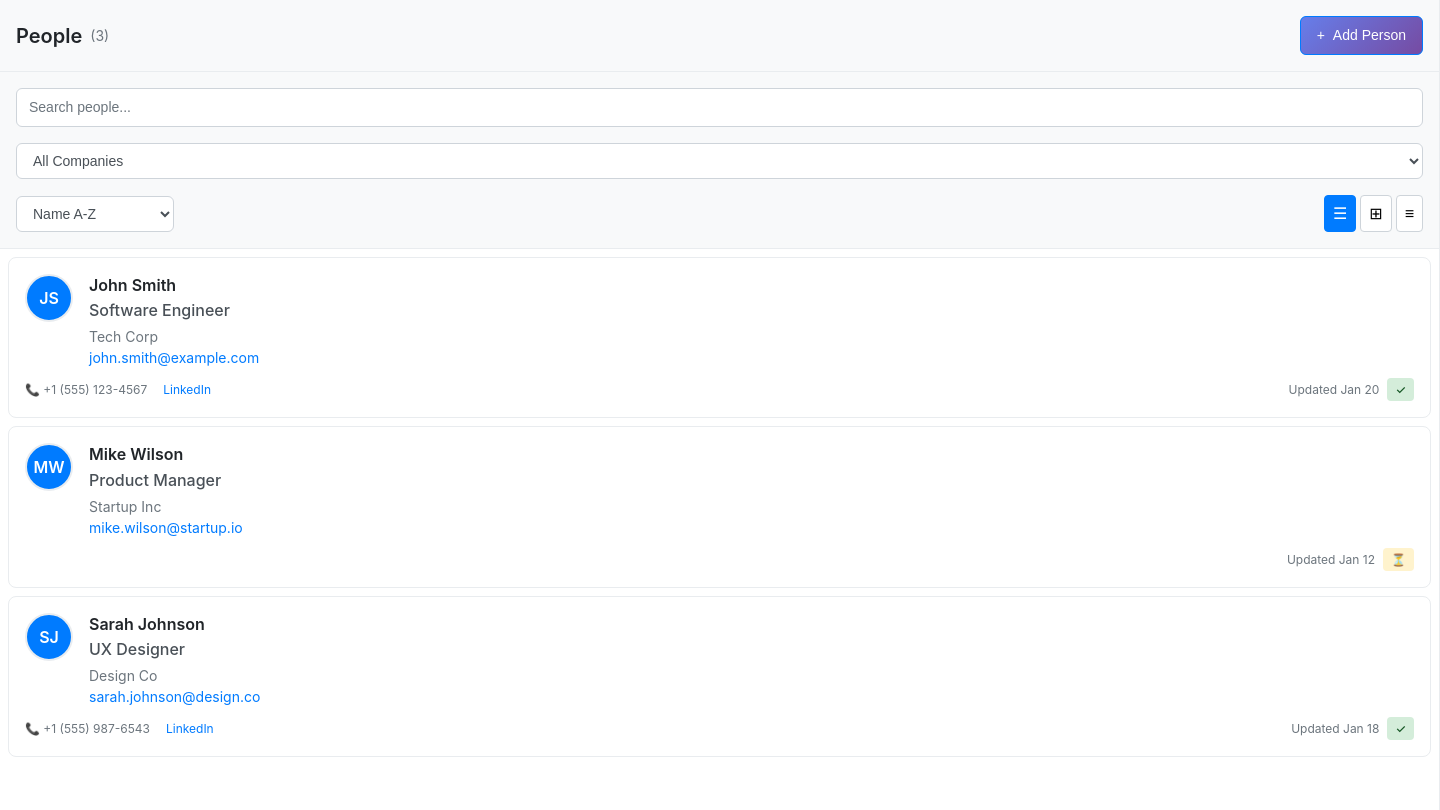
Test: PeopleList › filters people by company
Select "Tech Corp" in the 1st dropdown showing "All Companies" at (720, 161), box x1=16 y1=143 x2=1423 y2=179
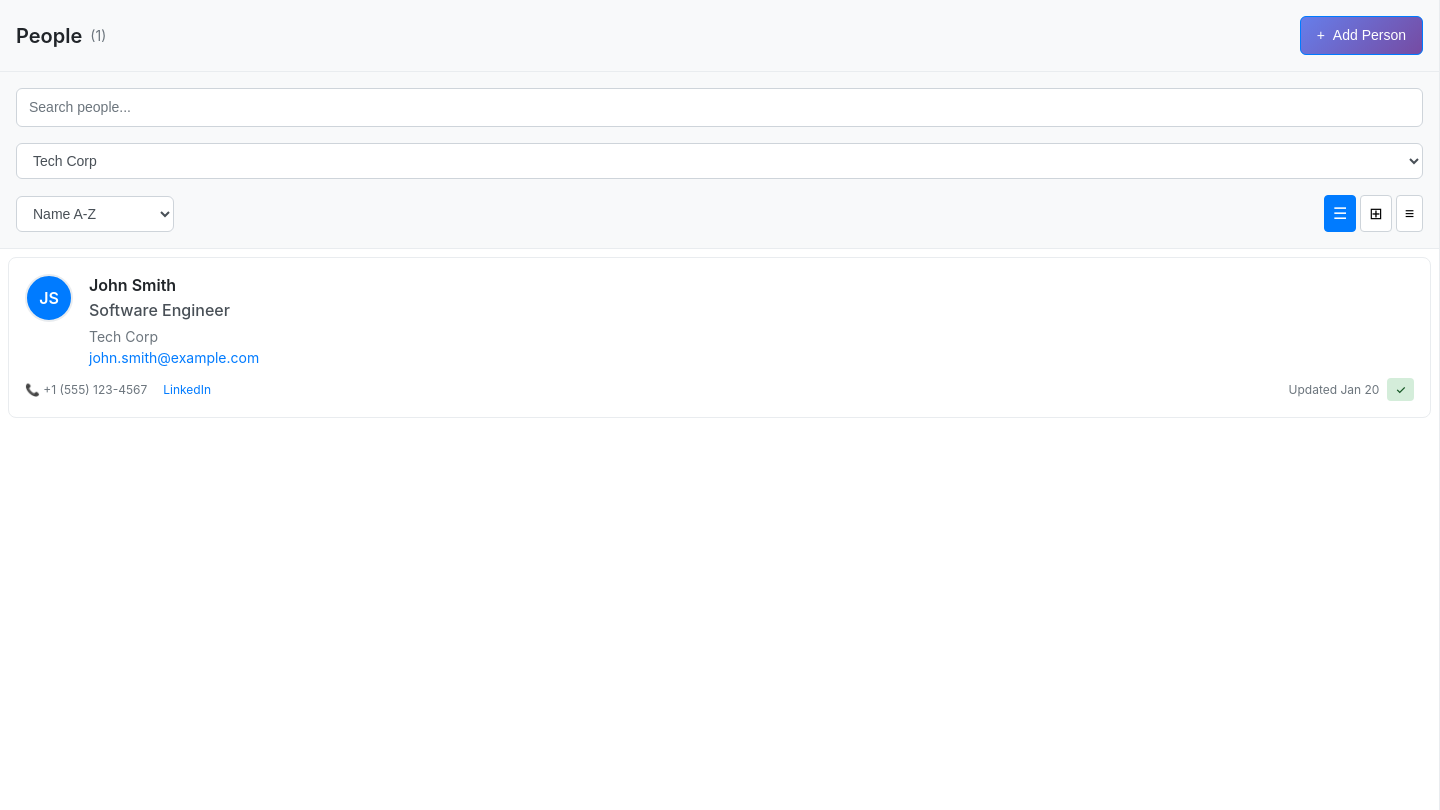
Check: the heading "John Smith" is shown, box x1=89 y1=275 x2=176 y2=295
Check: the heading "Sarah Johnson" is gone
Check: the heading "Mike Wilson" is gone
